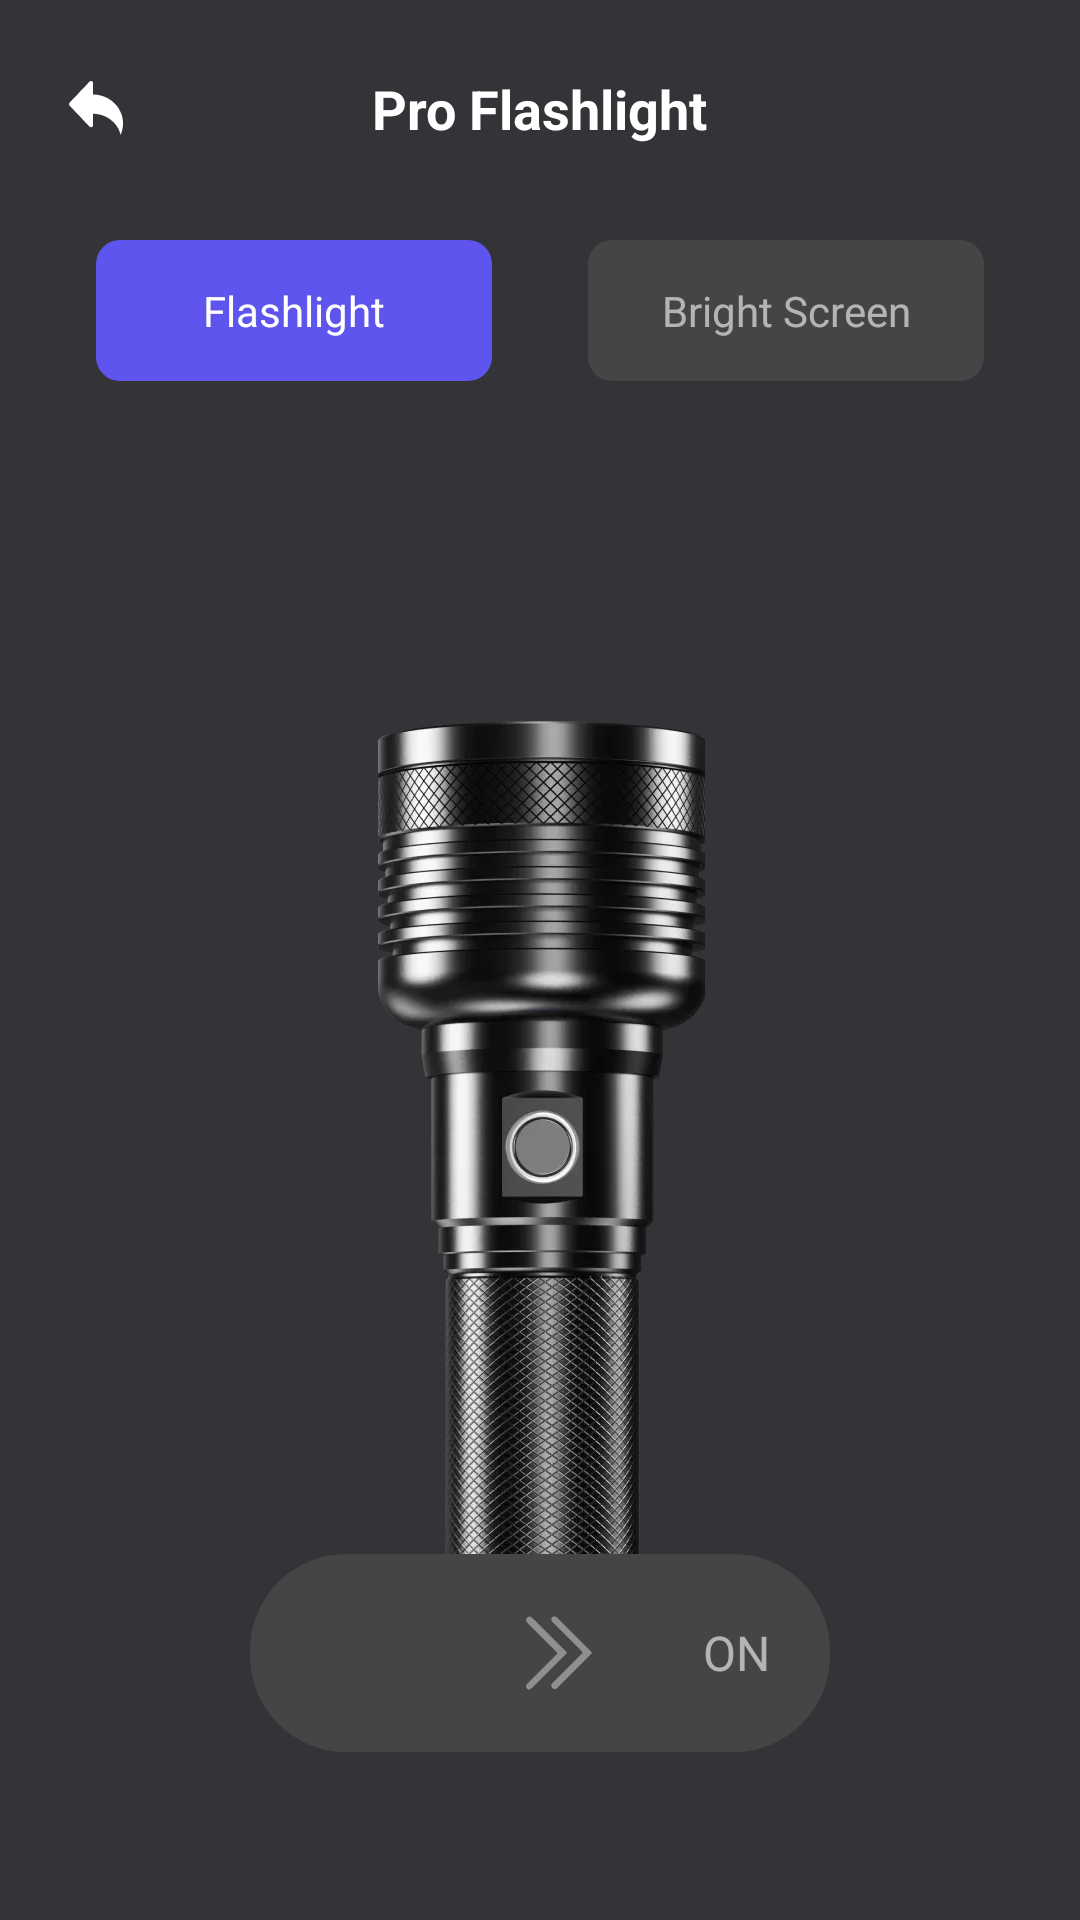

Icon bounding boxes for this 1080 × 1920 phone screenshot, format (x1, y1, x2, y2):
back: (69, 81, 123, 135)
